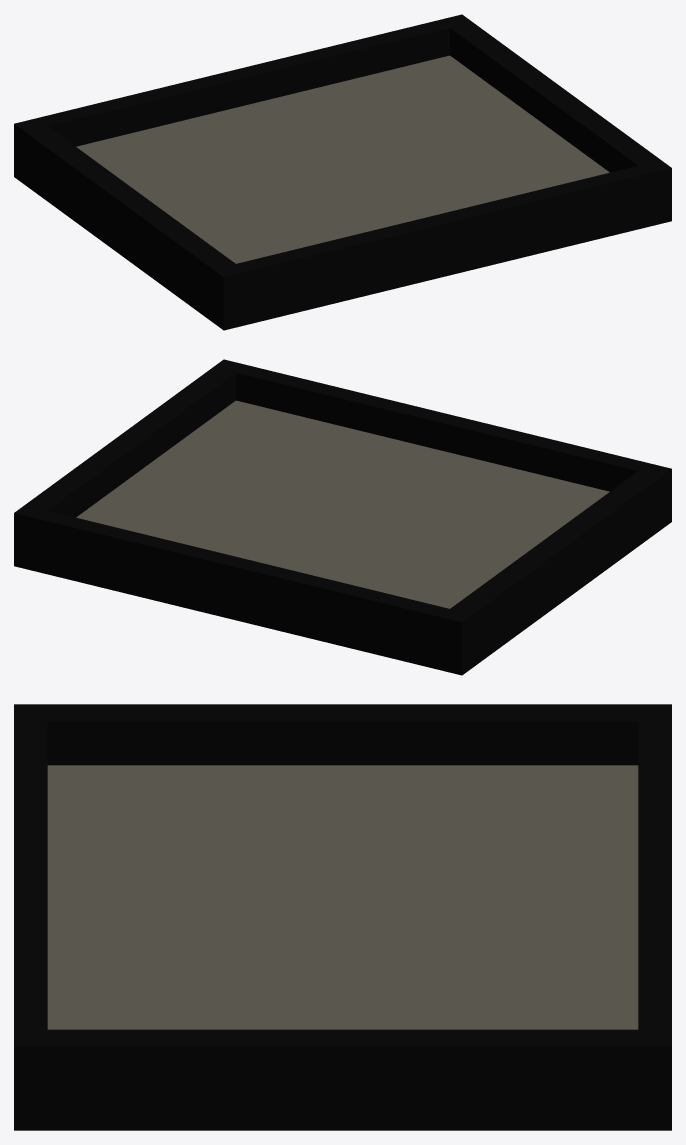
File: CityBuildingC_03_roof.fbx
3 views of the same model, one above another, from view 1: azimuth 30°, elevation 25°; view 2: azimuth 150°, elevation 25°; view 3: azimuth 270°, elevation 25° (orthographic). The views are drawn at different scales.
Parts seen in each view (by area): view 1: CityBuildingC_03_roof; view 2: CityBuildingC_03_roof; view 3: CityBuildingC_03_roof.
Boxes of the visible parts, left/top/right/bottom form: CityBuildingC_03_roof: left=14, top=14, right=671, bottom=330; CityBuildingC_03_roof: left=14, top=359, right=671, bottom=675; CityBuildingC_03_roof: left=14, top=704, right=671, bottom=1130.
Size of the model in its own units: 0.6706 by 0.0761 by 0.5438.
